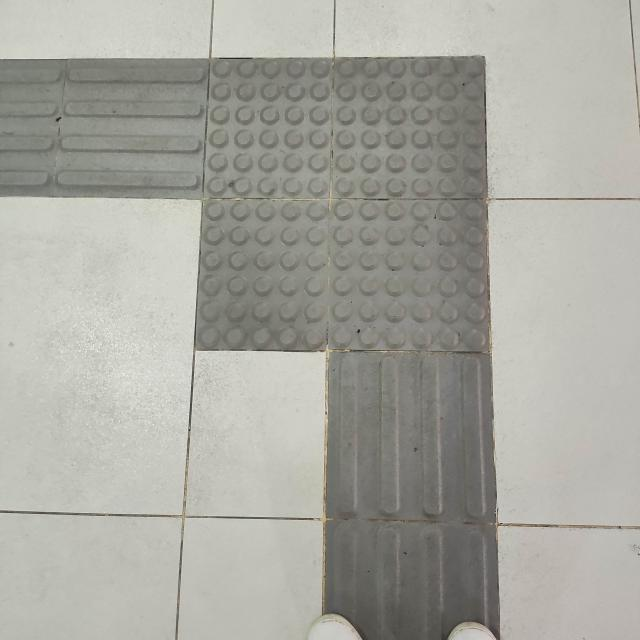kiri: (24, 13, 586, 434)
